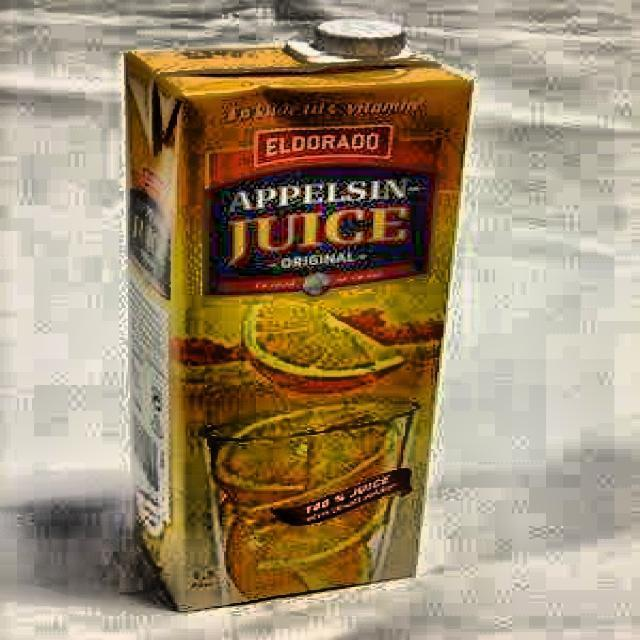cardboard: (121, 37, 474, 611)
